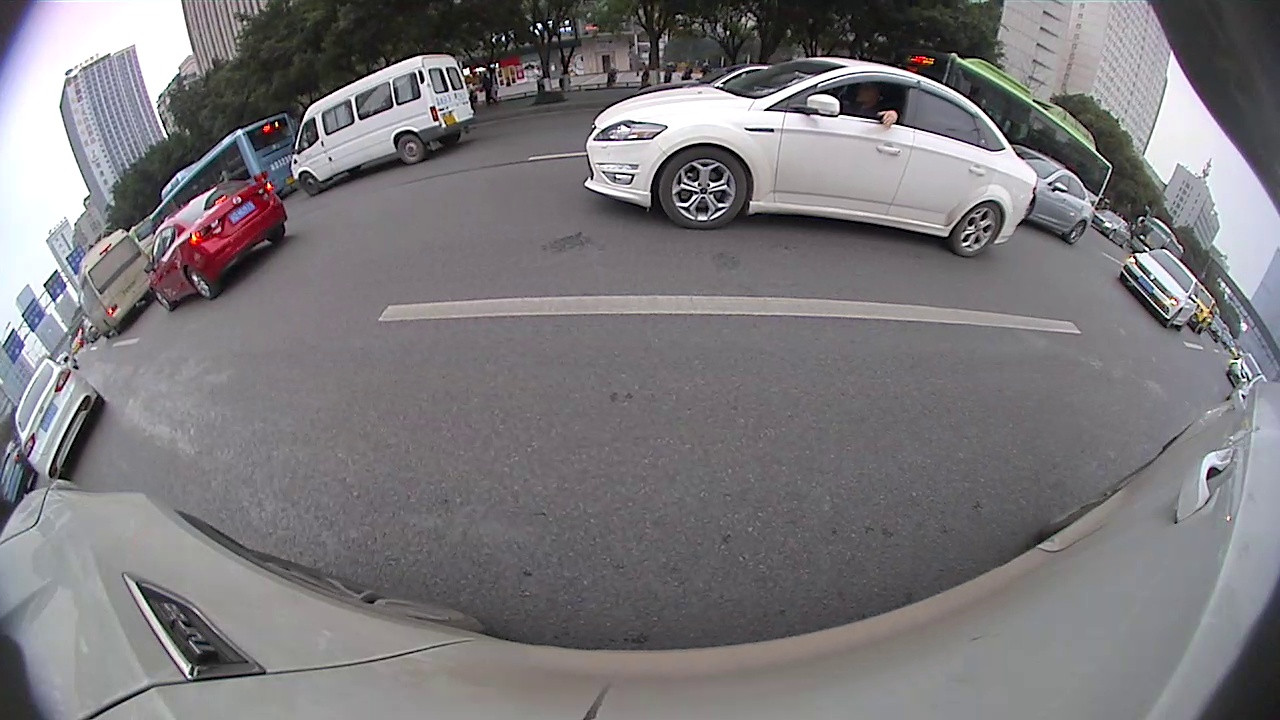bus: (884, 55, 1114, 210), (158, 113, 300, 208), (76, 231, 165, 334)
car: (583, 56, 1039, 256), (288, 54, 473, 194), (149, 182, 289, 310), (10, 355, 102, 481), (1002, 148, 1093, 242), (1117, 249, 1198, 329)
front: (660, 147, 749, 229), (152, 291, 174, 310), (300, 171, 317, 195)
rear: (952, 202, 1002, 256), (185, 265, 216, 299), (396, 135, 425, 164), (1066, 220, 1089, 244)
